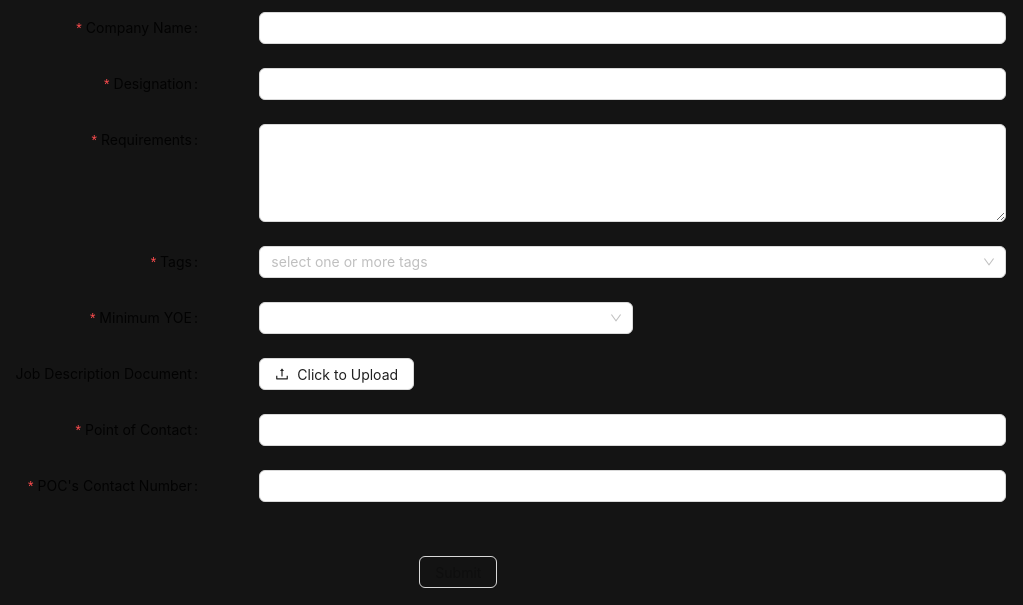
Test: JobForm › validation error message should be displayed when entering invalid designation
The width and height of the screenshot is (1023, 605).
Type "Test Designation" into the field labelled "Designation" at [633, 84], box [259, 68, 1006, 100]
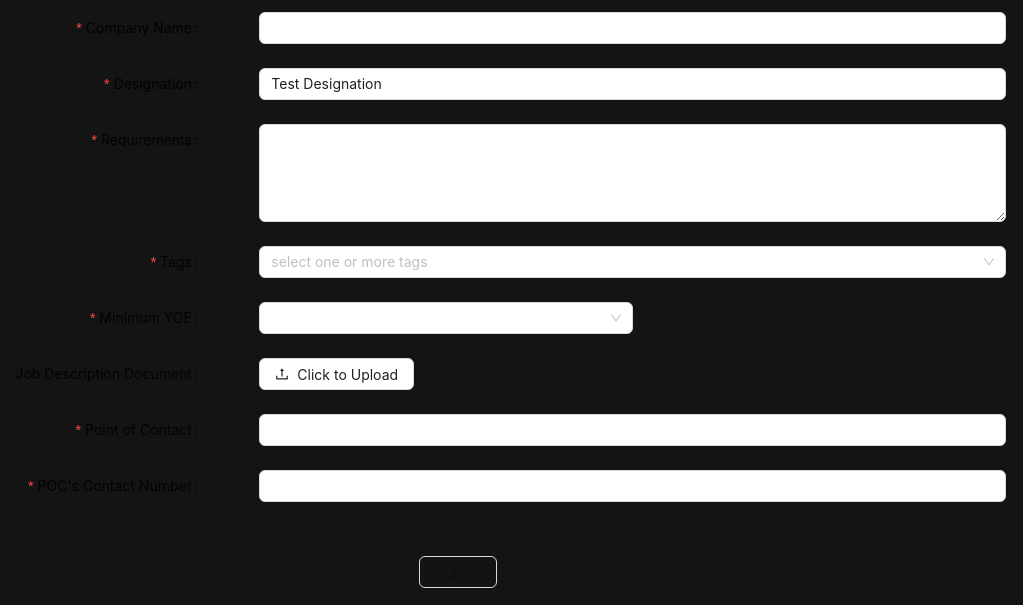
Clear the field labelled "Designation" at [633, 84], box [259, 68, 1006, 100]
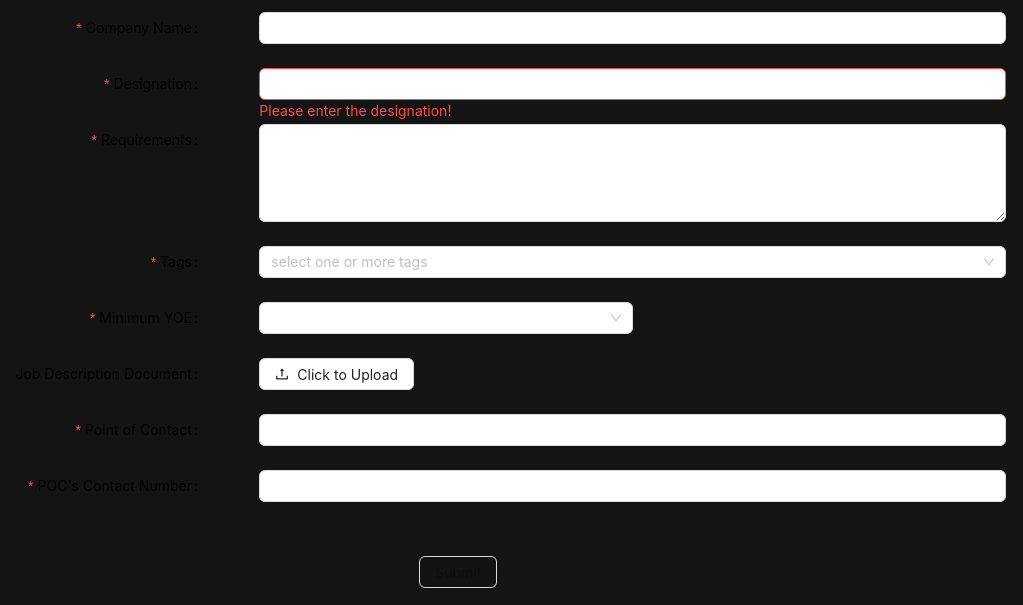
Expected: the text "Please enter the designation!" is shown, [259, 102, 451, 119]
